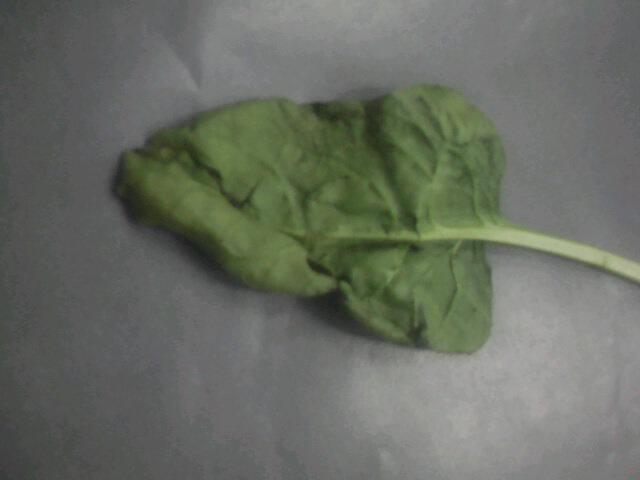yellow: (100, 71, 569, 367)
